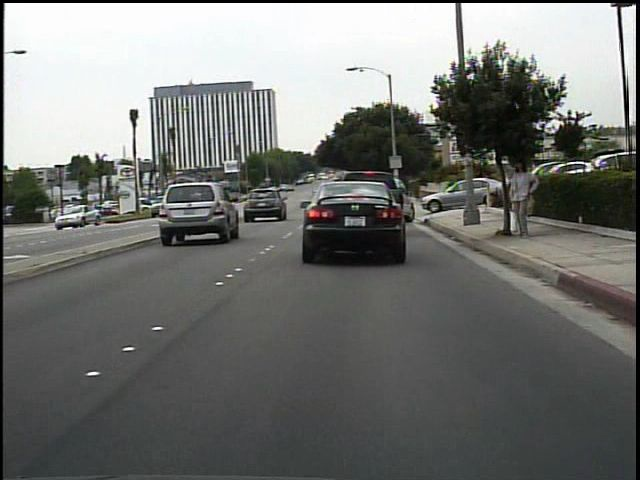person: (503, 157, 539, 242)
